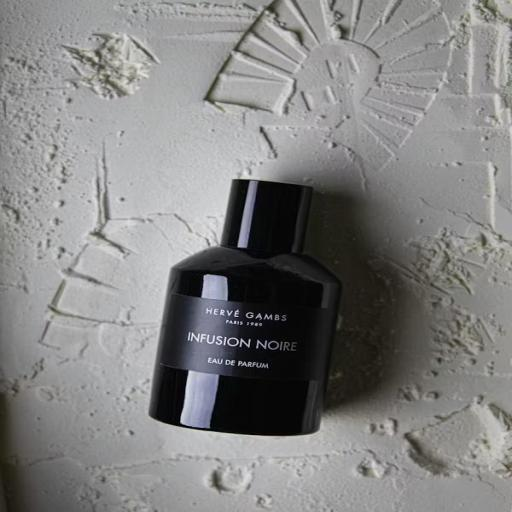bottle: (140, 168, 354, 443)
